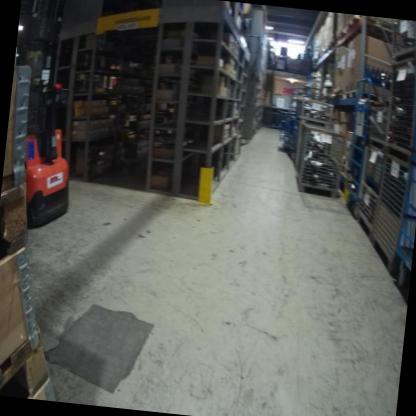pallet: (0, 323, 55, 400), (0, 180, 34, 270), (343, 89, 390, 106)
pallet_truck: (10, 0, 94, 243)
stillage: (365, 158, 416, 276), (293, 120, 350, 200), (380, 51, 416, 165), (292, 90, 338, 130), (358, 144, 386, 194), (352, 183, 377, 238), (364, 102, 392, 148), (392, 20, 416, 61)
